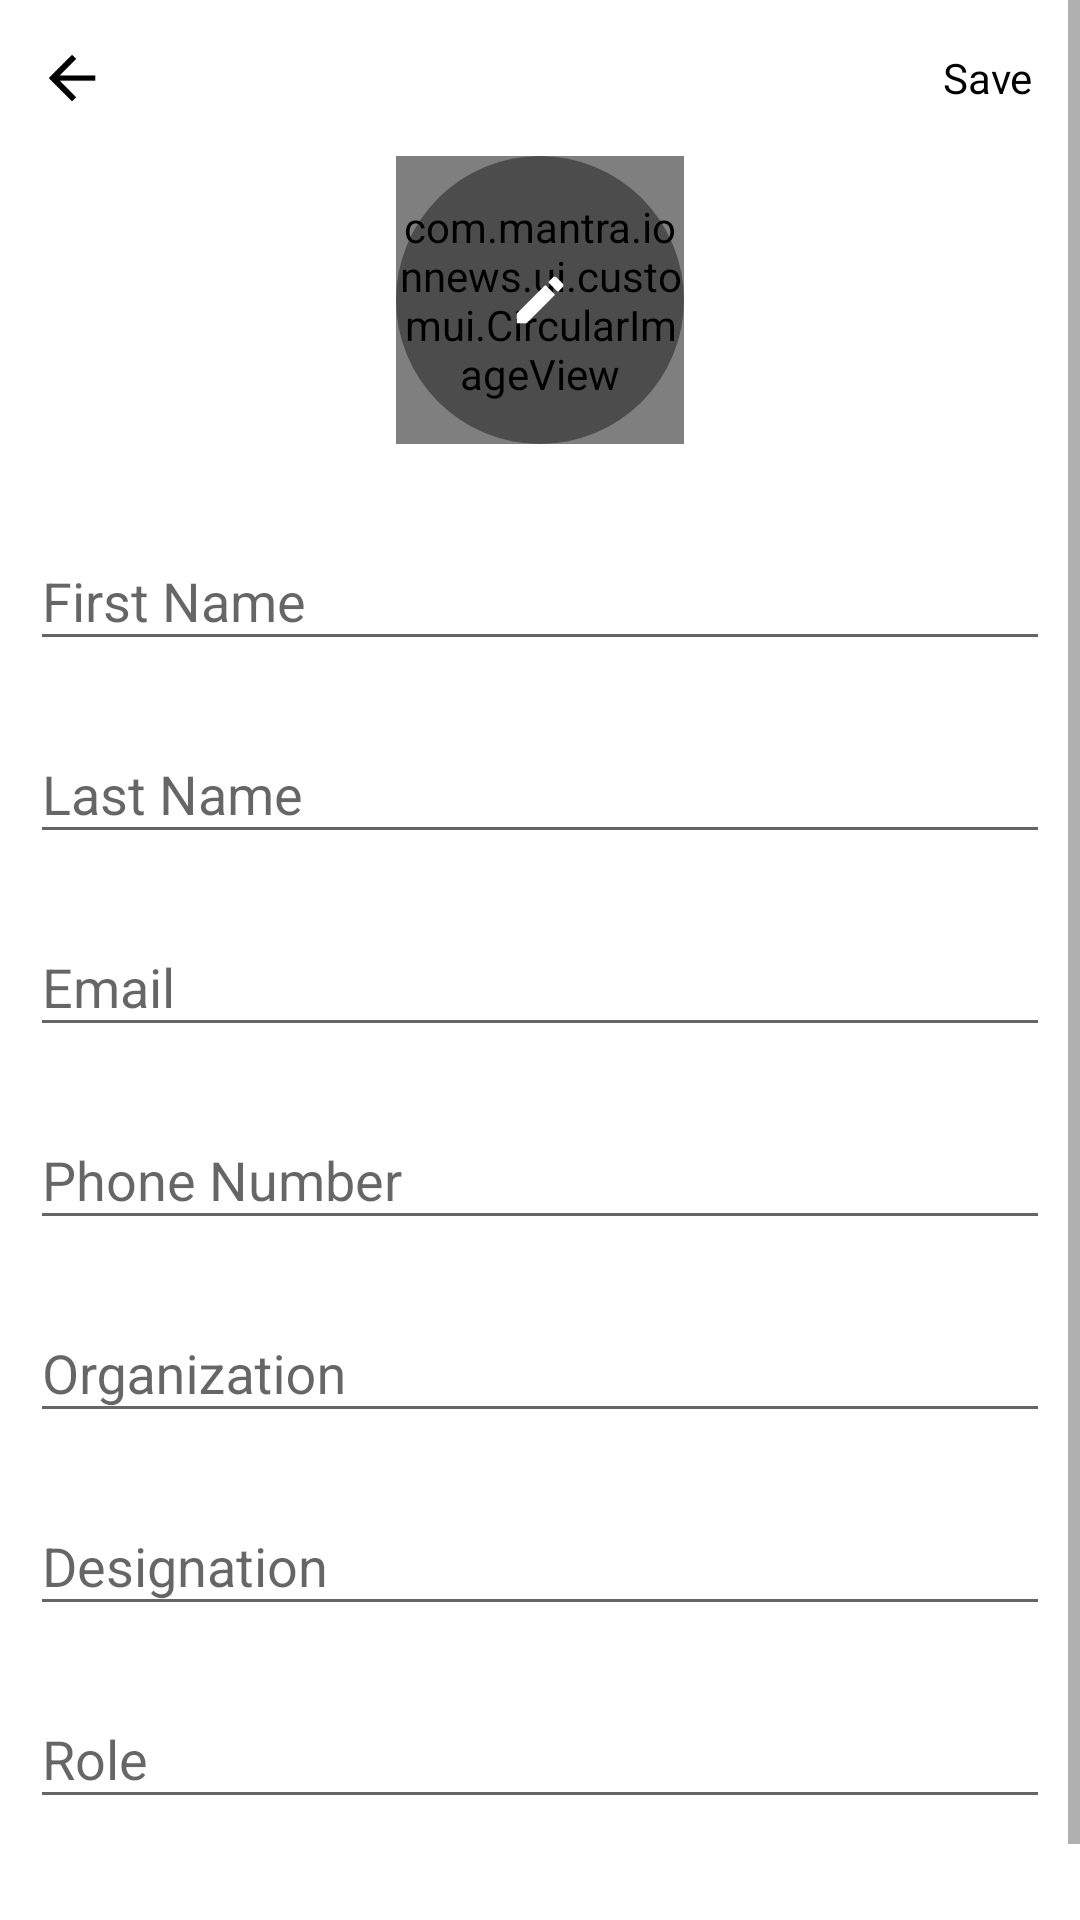

Icons on this 1080 x 1920 Android screen, each with its box as bbox(x1, y1, x2, y2):
back: bbox(49, 55, 96, 102)
edit: bbox(492, 262, 588, 341)
